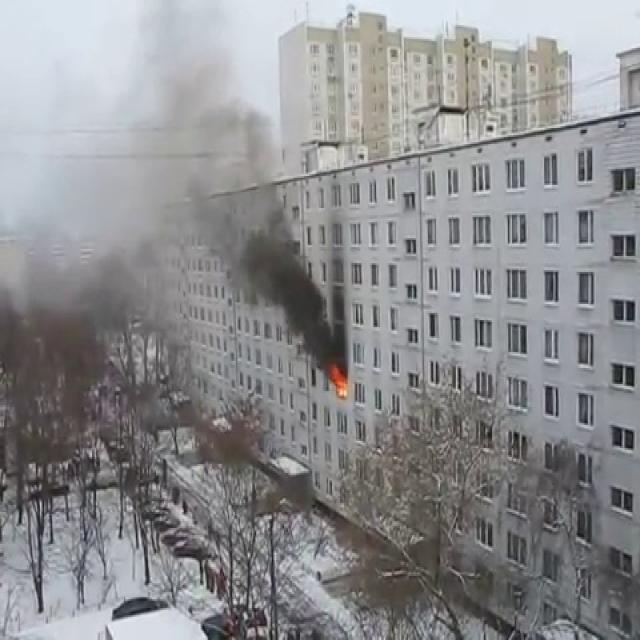Fire: (326, 358, 353, 399)
Smoke: (0, 0, 341, 361)
